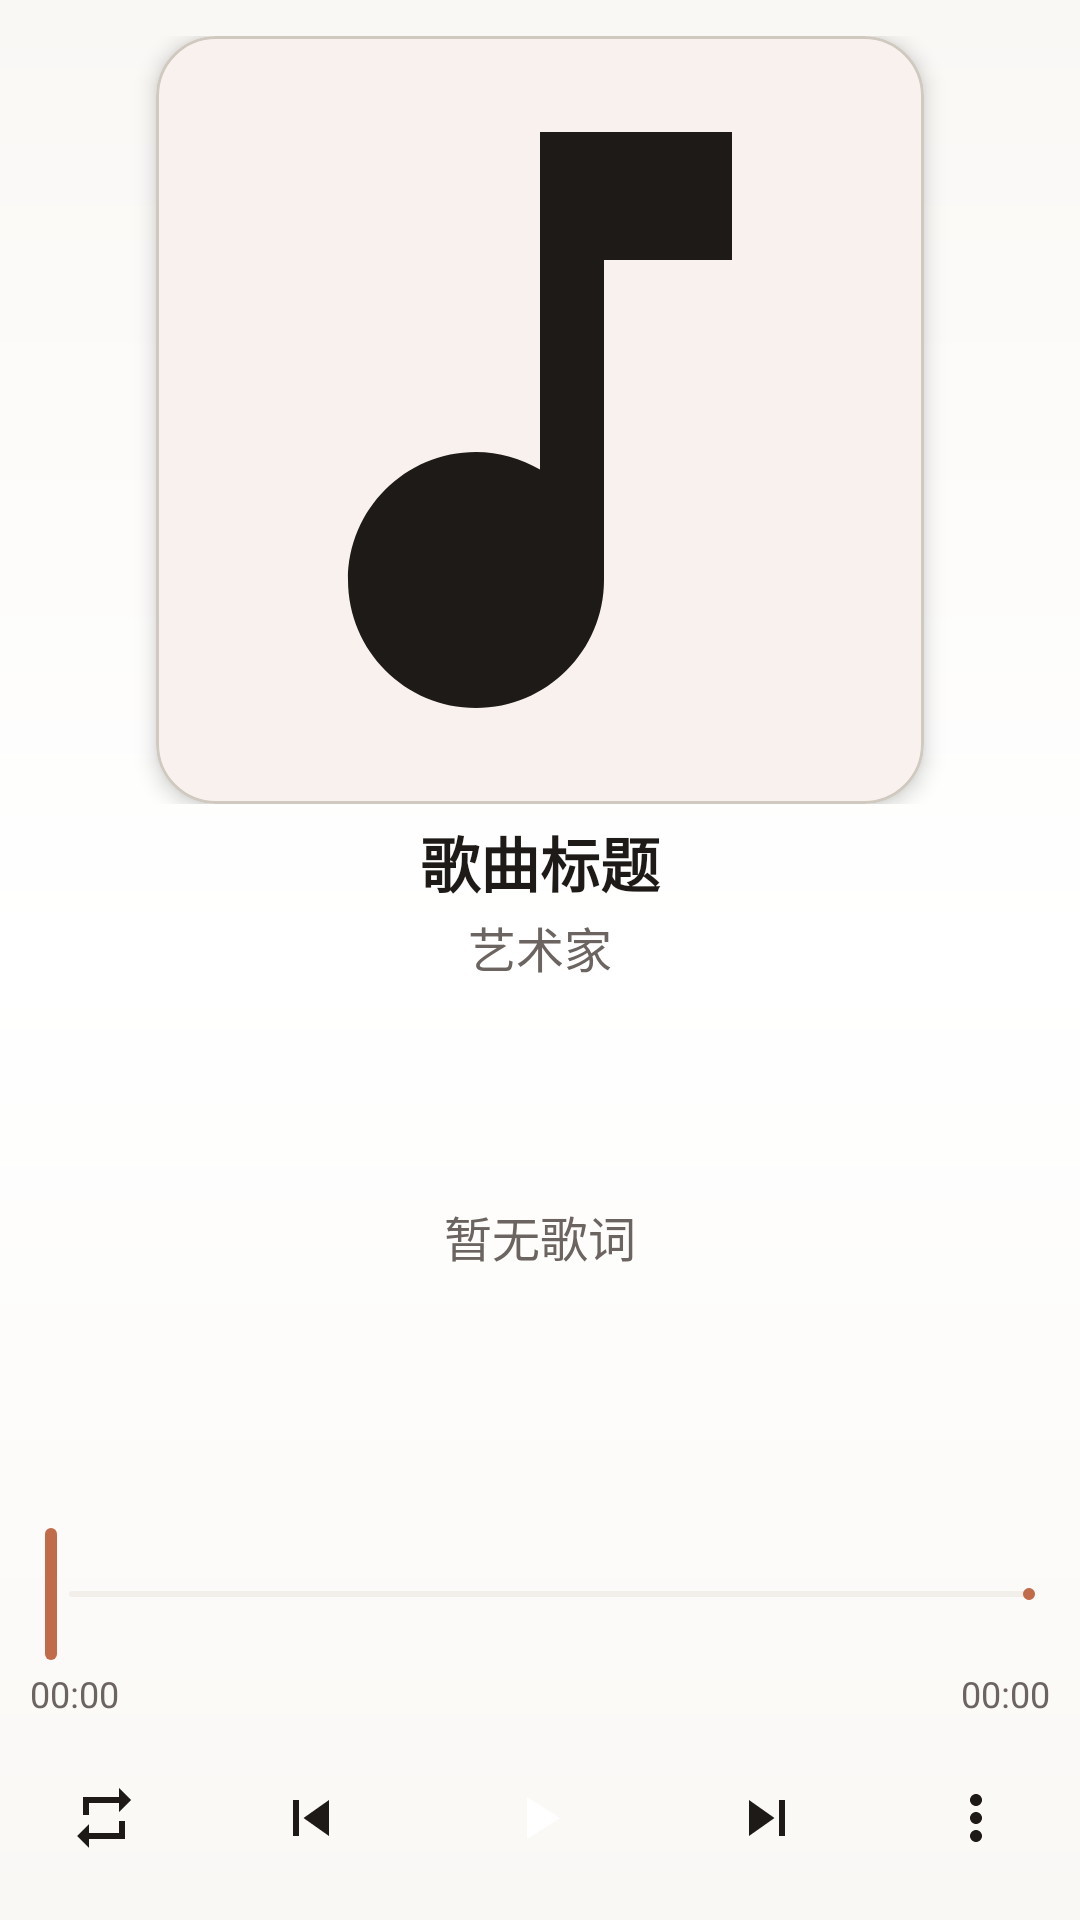

Point at icon controls on the screen. Image size 1080px x 1920px, points as [x,y].
上一首: [311,1818]
下一首: [767,1818]
播放模式: [104,1818]
更多选项: [976,1818]
